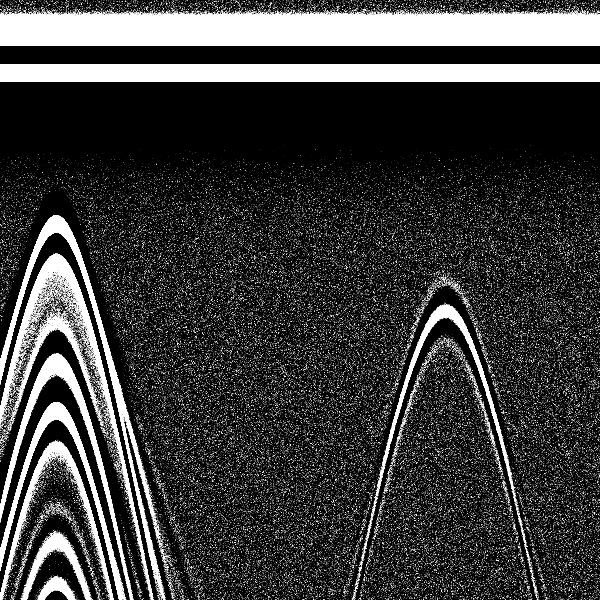pipe: (391, 5, 499, 378), (9, 5, 103, 305)
